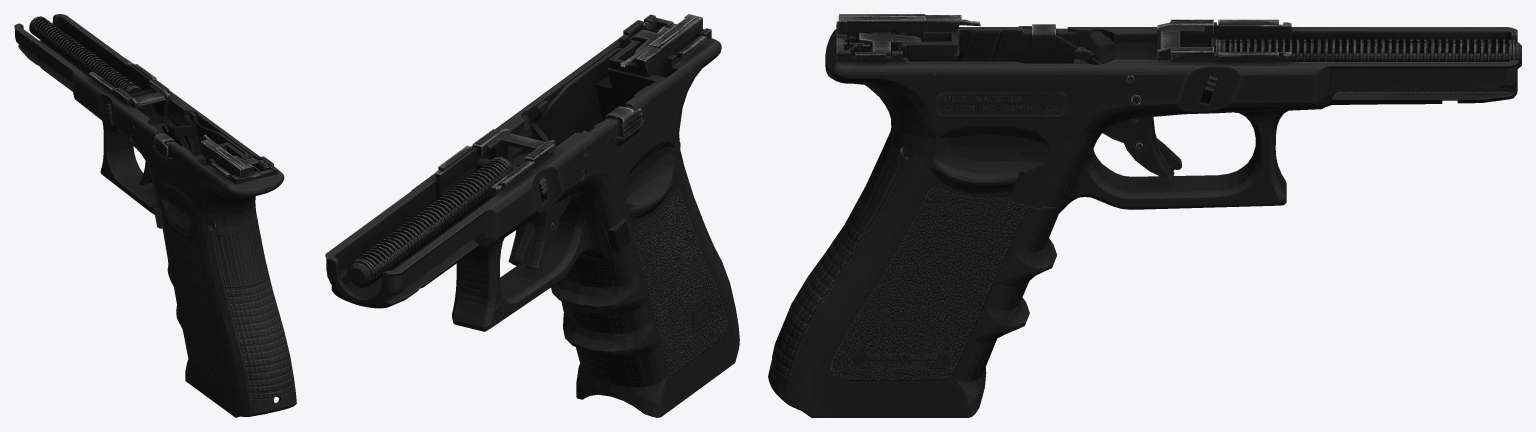
3 renders of one model, left to right at view 1: azimuth 30°, elevation 25°; view 2: azimuth 150°, elevation 25°; view 3: azimuth 270°, elevation 25°, orthographic. The views are drawn at different scales.
Parts seen in each view (by area): view 1: TW_5b1fa9b25acfc40018633c01_PZ_Import; view 2: TW_5b1fa9b25acfc40018633c01_PZ_Import; view 3: TW_5b1fa9b25acfc40018633c01_PZ_Import.
Part boxes in pixels (x1=…): TW_5b1fa9b25acfc40018633c01_PZ_Import: x1=14, y1=14, x2=296, y2=417; TW_5b1fa9b25acfc40018633c01_PZ_Import: x1=325, y1=14, x2=739, y2=417; TW_5b1fa9b25acfc40018633c01_PZ_Import: x1=768, y1=14, x2=1521, y2=417.
Size of the model in its own units: 0.0179 by 0.117 by 0.0634.
1 material, 1 textured.
